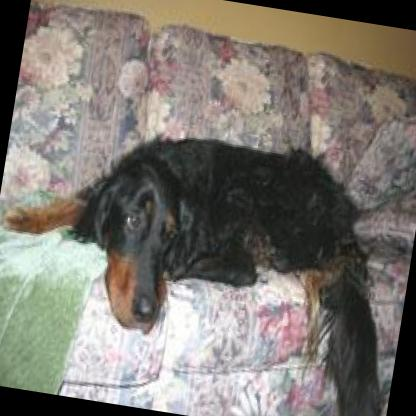Gordon_setter: (0, 102, 416, 416)
